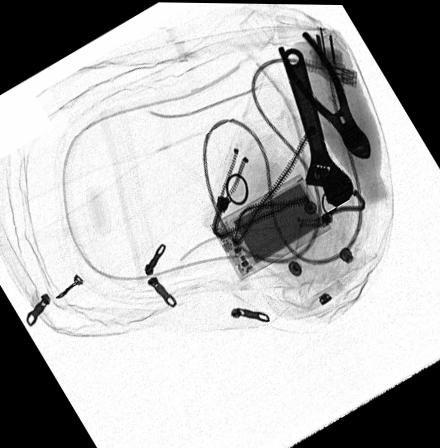Pliers: (277, 26, 371, 158)
Powerbank: (212, 173, 332, 279)
Wrench: (281, 46, 353, 207)
